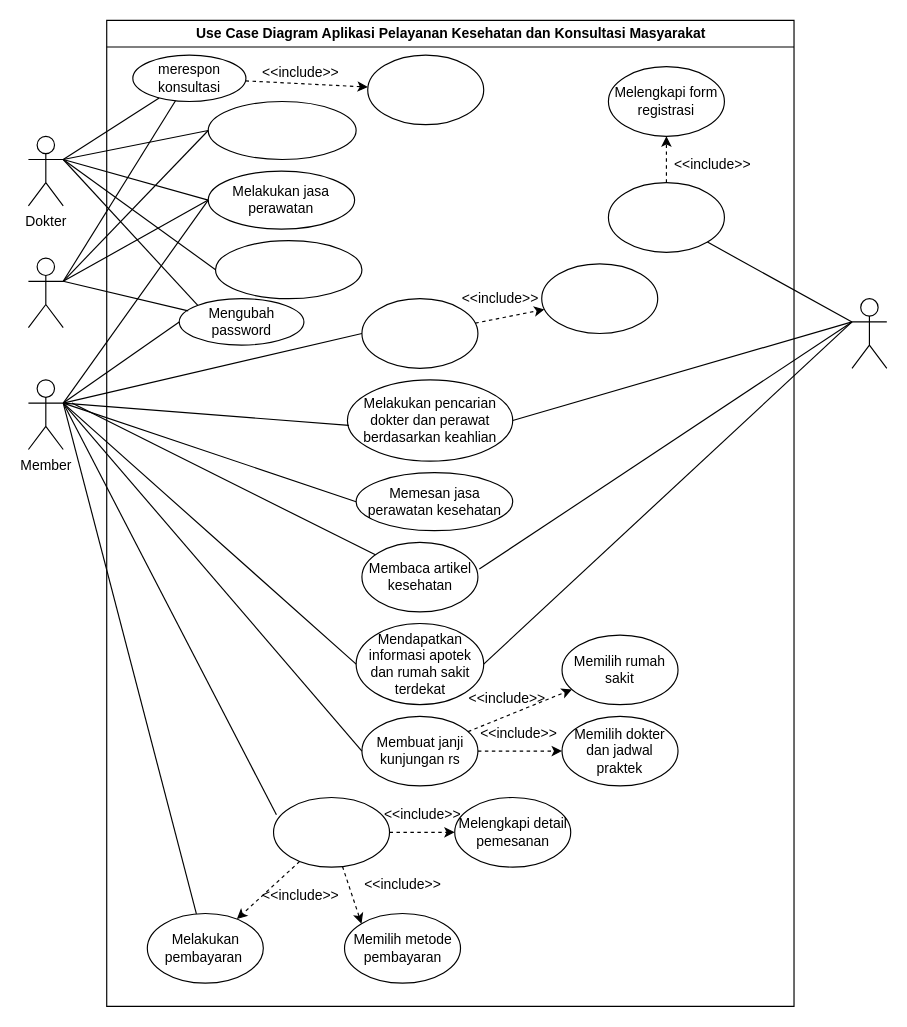
Some shapes in this 907 by 1027 pixel diagram are drawn without their labels. Here are the shapes that lost their labels. From the top down, the centre of each, then its label:
At point 425,89: "memilih pesan member".
At point 281,130: "Memasukkan harga biaya konsultasi".
At point 665,217: "Registrasi Akun".
At point 288,269: "Membuat resep obat setelah konsultasi".
At point 45,292: "Perawat".
At point 599,298: "memilih dokter atau perawat".
At point 419,333: "Melakukan konsultasi".
At point 869,333: "Guest".
At point 331,831: "Memesan produk obat dan vitamin".
